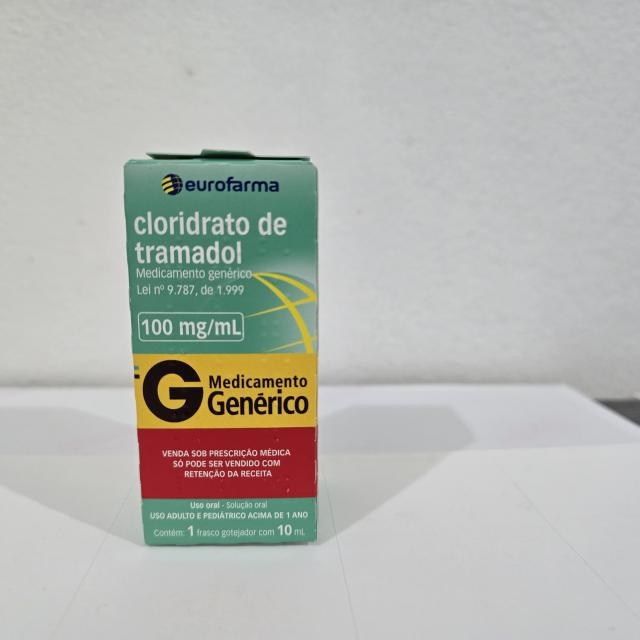tramadol: (118, 145, 323, 549)
